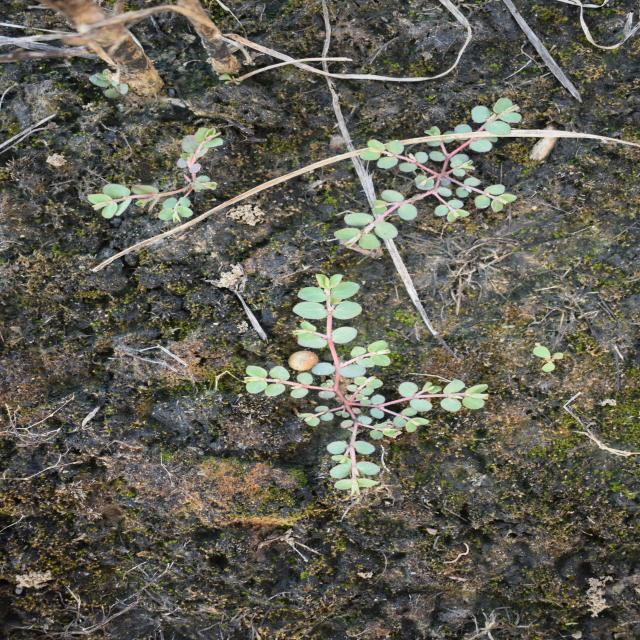SpottedSpurge: (241, 272, 492, 498), (333, 97, 527, 252), (85, 126, 227, 225), (86, 69, 144, 113)
